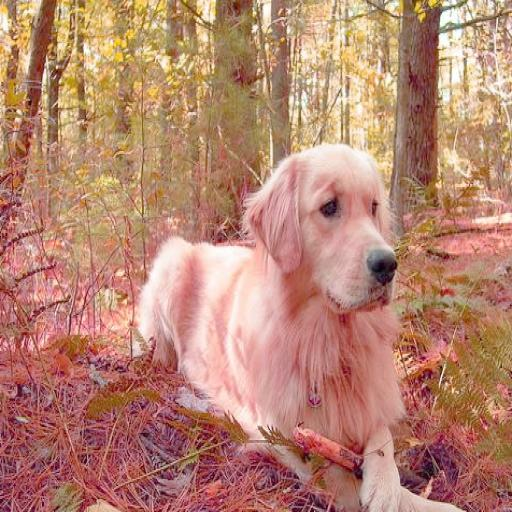dog_face: (259, 145, 395, 324)
